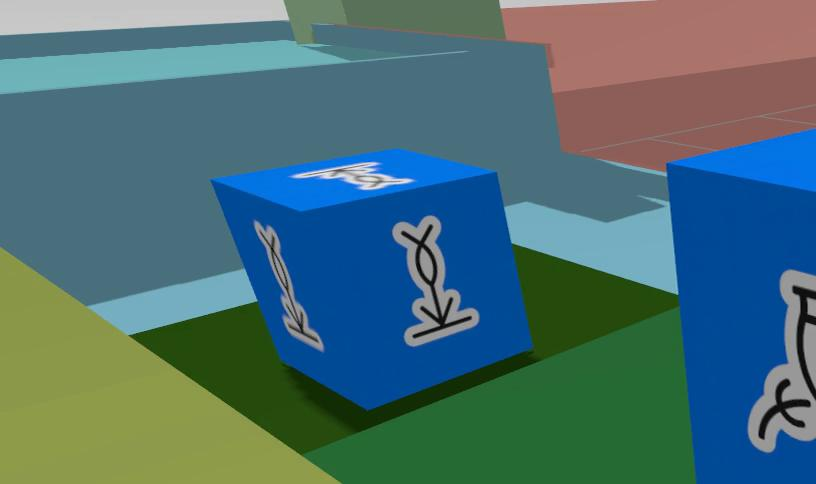KFS_REAL: (213, 150, 532, 408), (668, 128, 816, 484), (748, 270, 816, 451), (393, 216, 478, 345), (254, 221, 322, 350), (291, 161, 412, 189)
